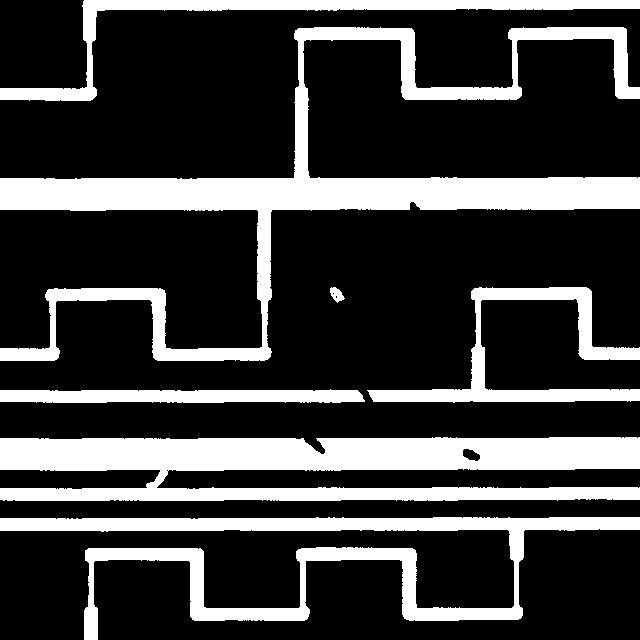copper: (453, 439, 489, 470)
open: (136, 457, 177, 498)
pin-hole: (320, 277, 354, 312)
short: (347, 374, 383, 419)
spur: (294, 420, 334, 463), (400, 192, 430, 225)
